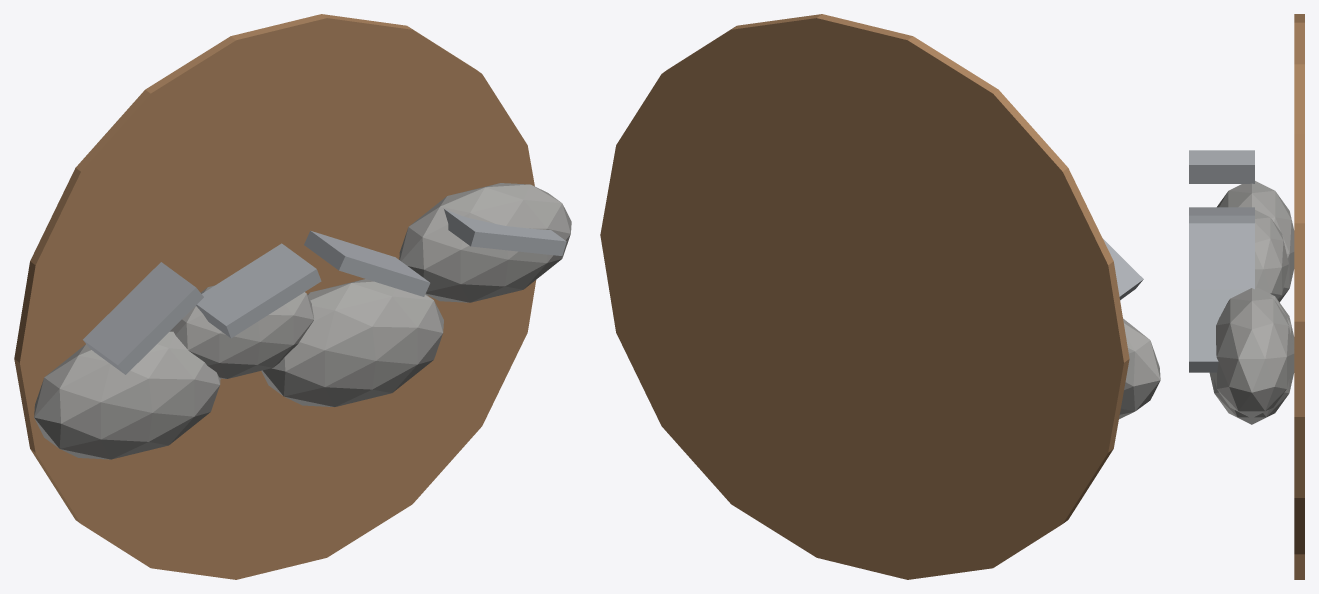
File: 03_ambient_object_cluster.glb
3 renders of one model, left to right at view 1: azimuth 30°, elevation 25°; view 2: azimuth 150°, elevation 25°; view 3: azimuth 270°, elevation 25°, orthographic. The views are drawn at different scales.
Parts seen in each view (by area): view 1: scatter_base, scrap_rock_0, scrap_rock_2, scrap_rock_3, scrap_plate_0, scrap_rock_1, scrap_plate_1, scrap_plate_2, scrap_plate_3; view 2: scatter_base, scrap_rock_0, scrap_plate_0; view 3: scrap_rock_3, scatter_base, scrap_plate_2, scrap_plate_3, scrap_rock_0, scrap_rock_1, scrap_plate_0, scrap_plate_1, scrap_rock_2.
Part boxes in pixels (x1=…): scatter_base: x1=14, y1=14, x2=536, y2=579; scrap_rock_0: x1=34, y1=331, x2=220, y2=459; scrap_rock_2: x1=261, y1=279, x2=443, y2=407; scrap_rock_3: x1=399, y1=183, x2=571, y2=302; scrap_plate_0: x1=83, y1=262, x2=203, y2=374; scrap_rock_1: x1=170, y1=285, x2=313, y2=378; scrap_plate_1: x1=196, y1=243, x2=321, y2=338; scrap_plate_2: x1=304, y1=230, x2=430, y2=296; scrap_plate_3: x1=444, y1=209, x2=566, y2=255; scatter_base: x1=600, y1=14, x2=1129, y2=579; scrap_rock_0: x1=1119, y1=318, x2=1160, y2=419; scrap_plate_0: x1=1103, y1=239, x2=1143, y2=300; scrap_rock_3: x1=1213, y1=288, x2=1294, y2=418; scatter_base: x1=1294, y1=14, x2=1304, y2=579; scrap_plate_2: x1=1189, y1=223, x2=1254, y2=289; scrap_plate_3: x1=1189, y1=289, x2=1247, y2=372; scrap_rock_0: x1=1217, y1=181, x2=1294, y2=302; scrap_rock_1: x1=1255, y1=210, x2=1288, y2=299; scrap_plate_0: x1=1189, y1=150, x2=1254, y2=183; scrap_plate_1: x1=1189, y1=207, x2=1254, y2=223; scrap_rock_2: x1=1209, y1=287, x2=1294, y2=424.
Bounding box in the file's own units: 1.95 × 1.87 × 0.3875.
